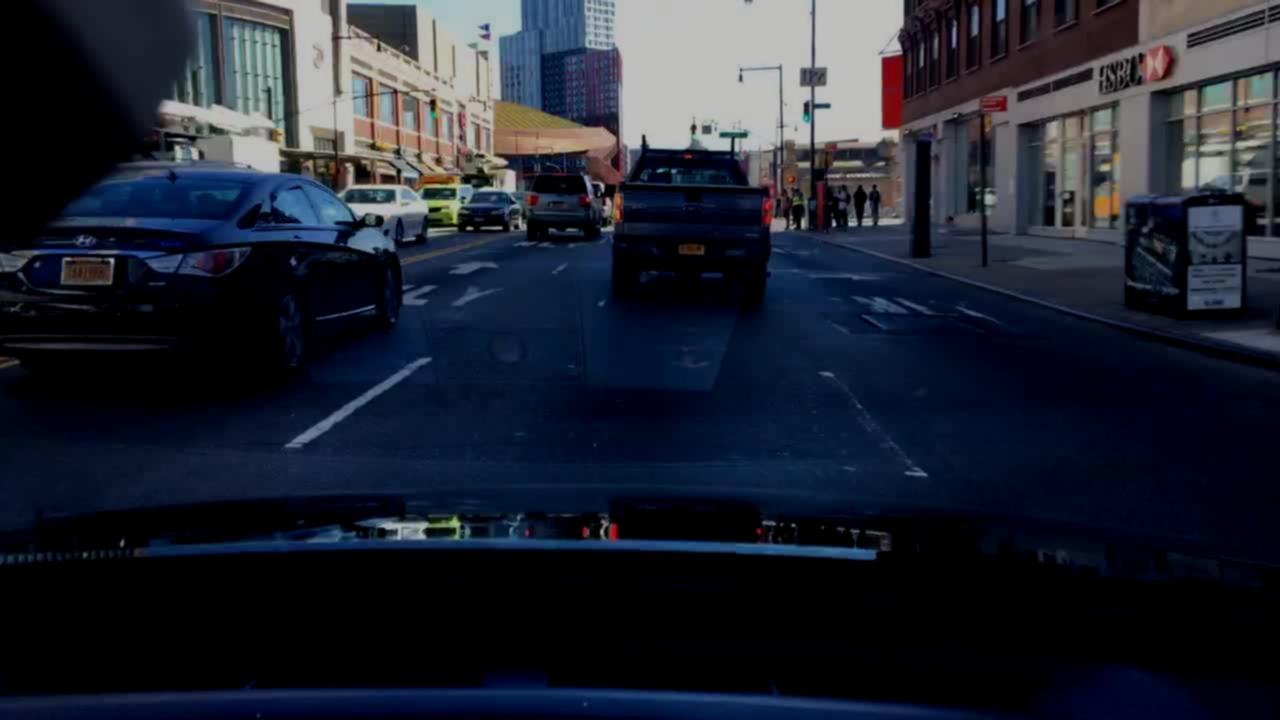Hyundai: (71, 228, 100, 254)
